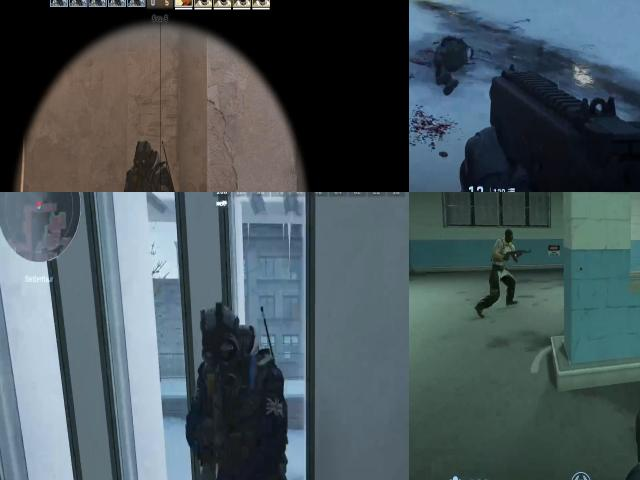CT: (178, 305, 292, 480), (128, 137, 173, 192)
CT-Head: (199, 303, 253, 391), (130, 137, 160, 177)
Dead: (424, 24, 478, 101)
T: (490, 228, 519, 270)
T-Head: (501, 230, 517, 242)
